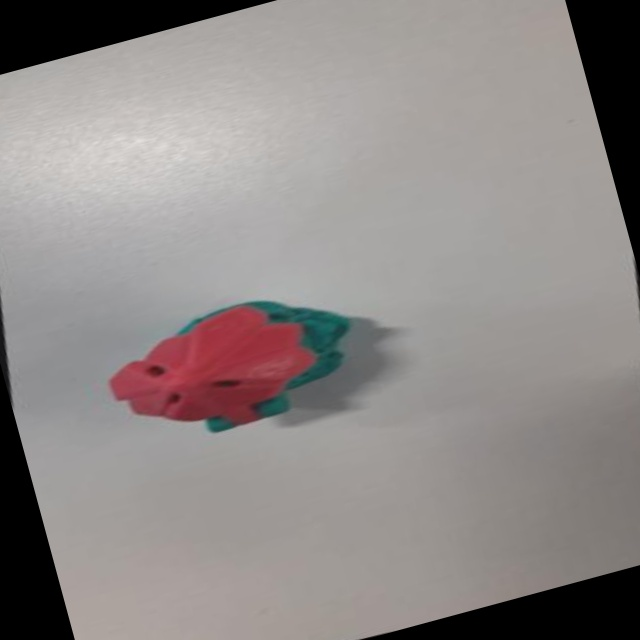House: (79, 260, 391, 465)
